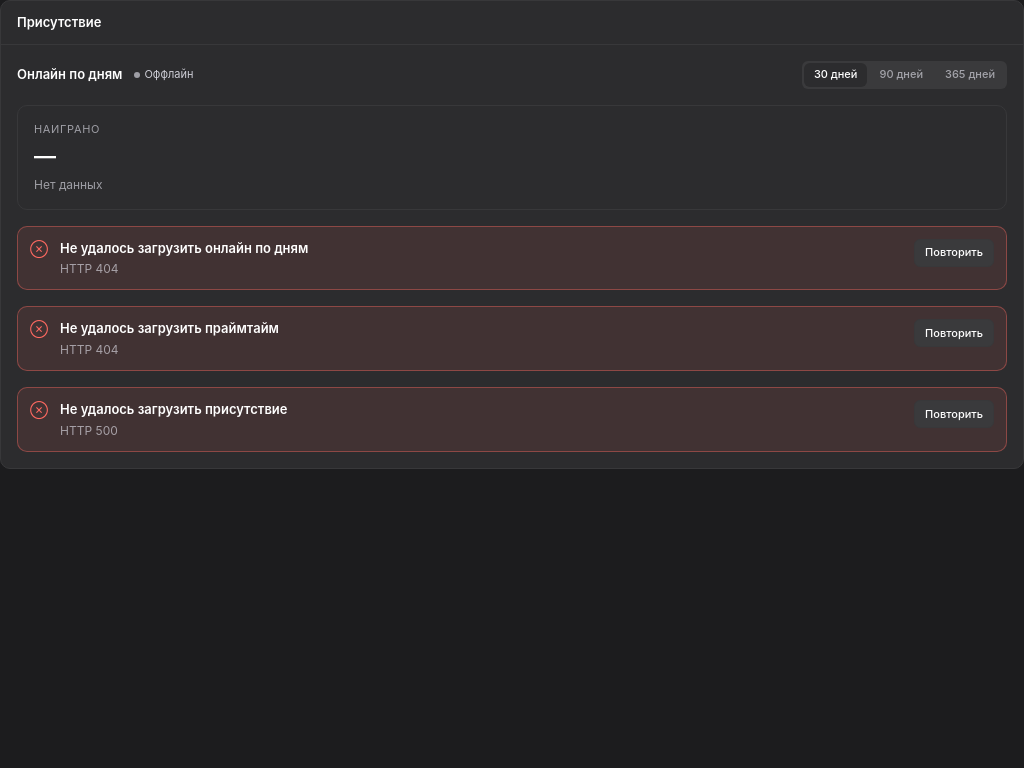
Scenario: PresenceSection › retries a failed load through the effect
Expected: the text "Не удалось загрузить присутствие" is shown, [60, 401, 288, 417]
Click the button "Повторить" in the row of "Не удалось загрузить присутствие" at (954,414), box [914, 400, 994, 428]
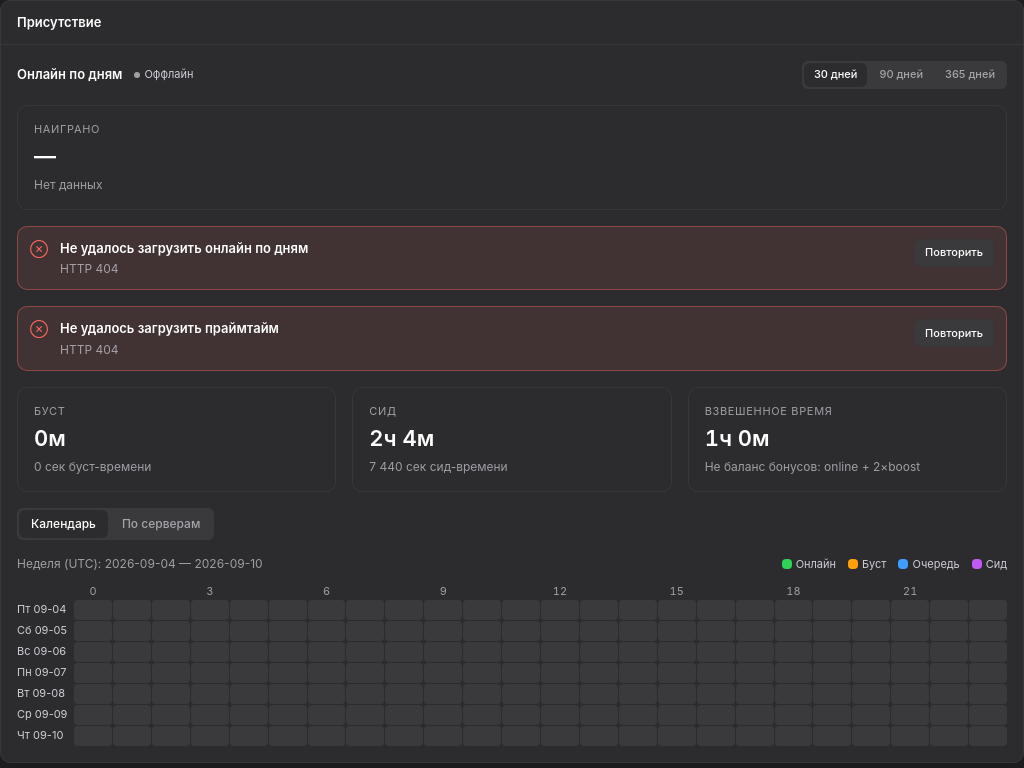
Expected: the text "7 440 сек сид-времени" is shown, [369, 459, 508, 474]
